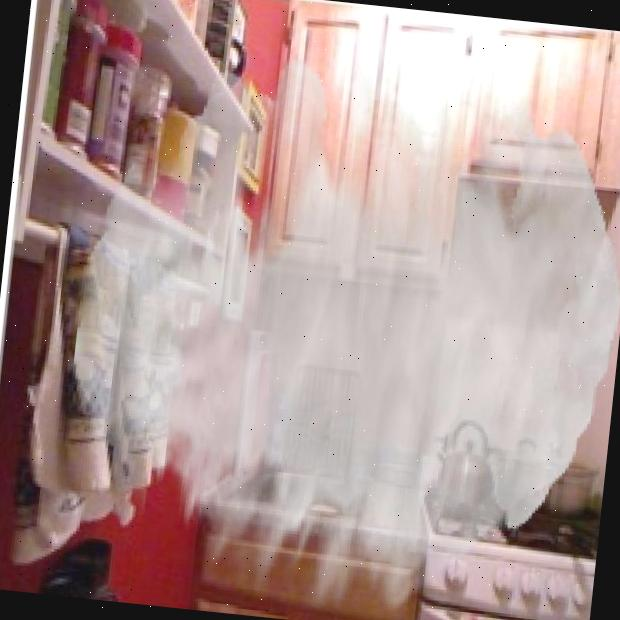smoke: (47, 37, 620, 620)
